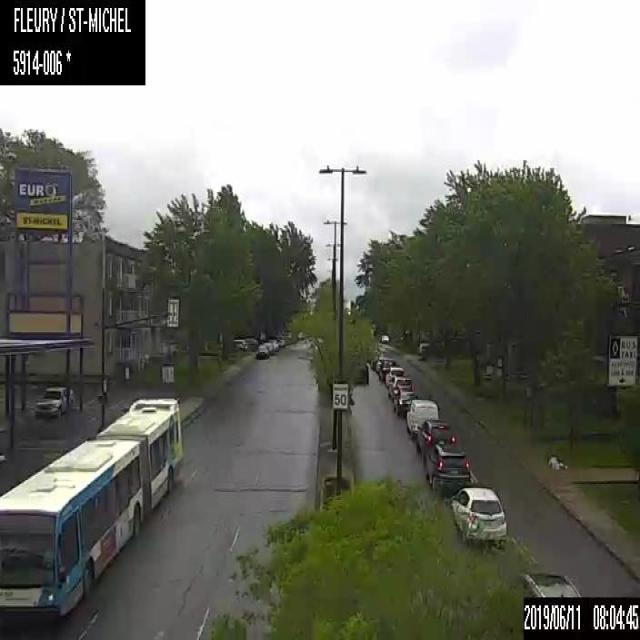bus: (0, 396, 183, 621)
vehicle: (450, 486, 506, 548), (424, 443, 469, 490), (415, 418, 457, 458), (521, 569, 581, 596), (406, 398, 438, 437), (34, 386, 73, 414), (386, 374, 414, 400), (392, 389, 414, 417), (385, 365, 405, 388), (378, 359, 396, 383), (254, 343, 268, 358), (374, 356, 386, 372), (232, 338, 247, 350), (263, 341, 273, 353), (269, 338, 278, 350), (245, 337, 258, 344), (278, 338, 284, 346)
